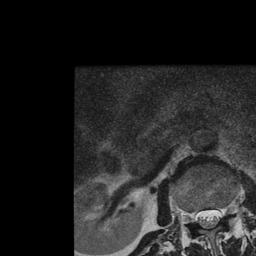CCS_normal: (204, 200, 213, 235)
LFS_normal: (222, 195, 232, 225)
LLS_normal: (212, 199, 223, 230)
RFS_normal: (186, 200, 195, 230)
RLS_normal: (195, 200, 204, 231)
